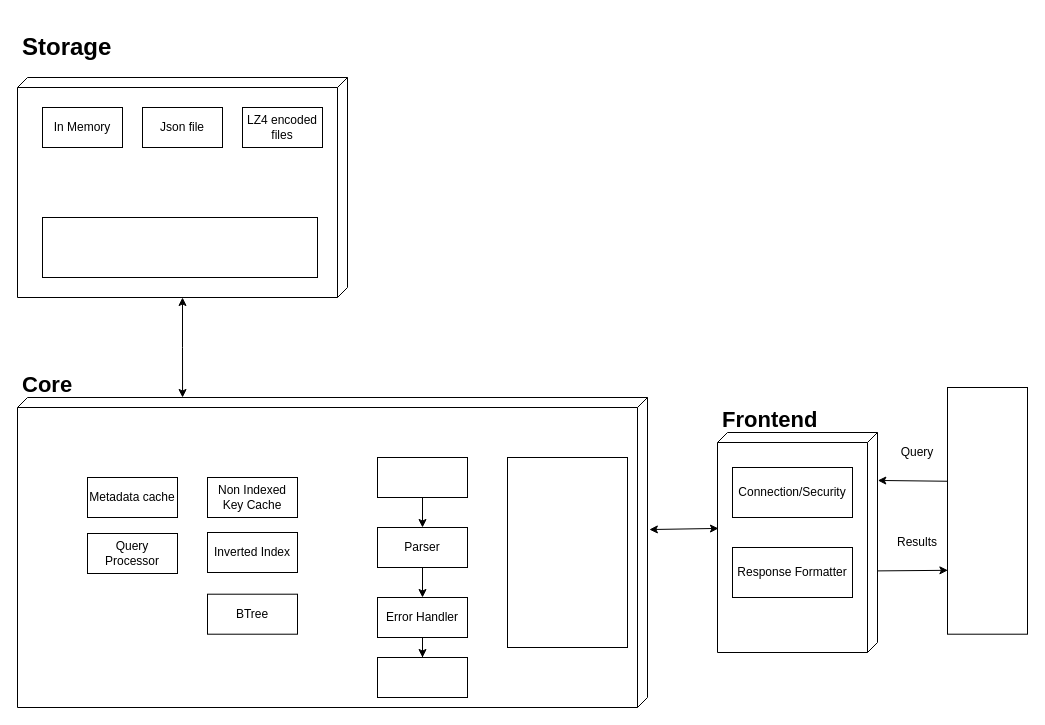
Image size: 1045x725. Some labels were removed from this diagram. Each missing label, with the centre of its shape:
CLIENTS: point (987, 510)
Optimizer: point (422, 677)
Storage Handler: point (180, 247)
Thread Handler: point (567, 552)
Tokenizer: point (422, 477)
